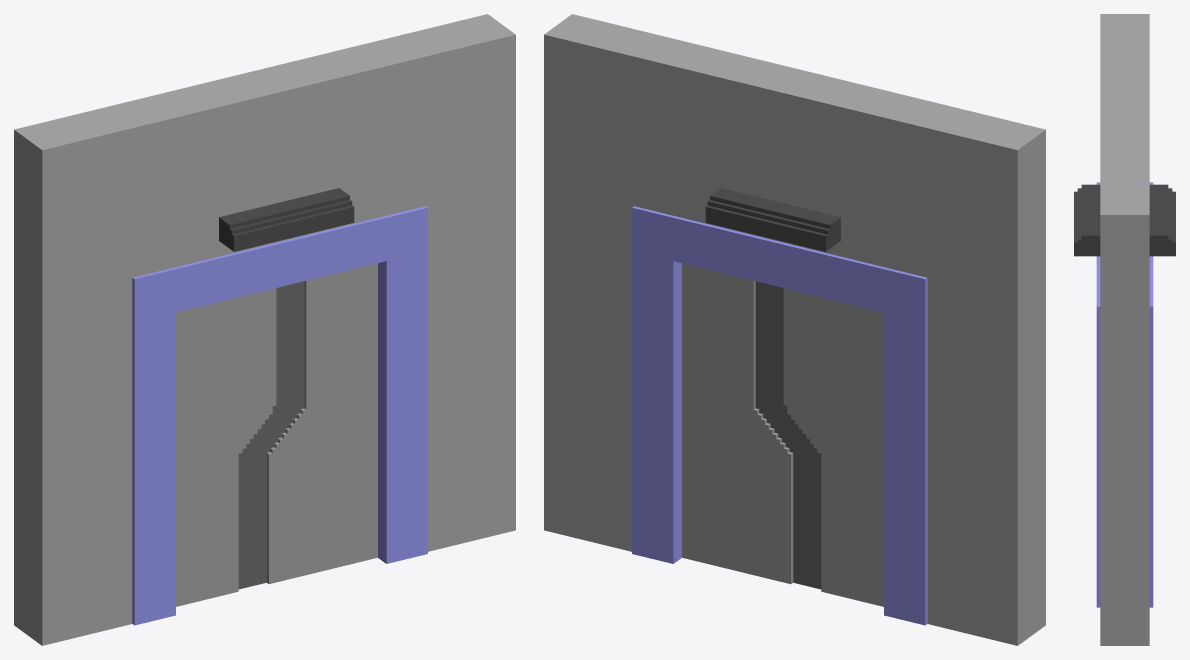
File: Operating_room_Door4-1-1.fbx
The picture shows the model from 3 angles, left to right: view 1: azimuth 30°, elevation 25°; view 2: azimuth 150°, elevation 25°; view 3: azimuth 270°, elevation 25°; orthographic projection. The views are drawn at different scales.
Visible parts, largest first — view 1: Operating room Door4-1-1.001, Operating room Door4-1-1, Operating room Door4-1-1.002; view 2: Operating room Door4-1-1.001, Operating room Door4-1-1, Operating room Door4-1-1.002; view 3: Operating room Door4-1-1.001.
Boxes of the visible parts, bbox=[...] form: Operating room Door4-1-1.001: bbox=[14, 14, 515, 645]; Operating room Door4-1-1: bbox=[251, 263, 377, 586]; Operating room Door4-1-1.002: bbox=[176, 285, 289, 606]; Operating room Door4-1-1.001: bbox=[544, 14, 1045, 645]; Operating room Door4-1-1: bbox=[682, 263, 808, 586]; Operating room Door4-1-1.002: bbox=[770, 285, 883, 606]; Operating room Door4-1-1.001: bbox=[1074, 14, 1175, 645].
Size of the model in its own units: 12.6 by 12.6 by 2.7.
